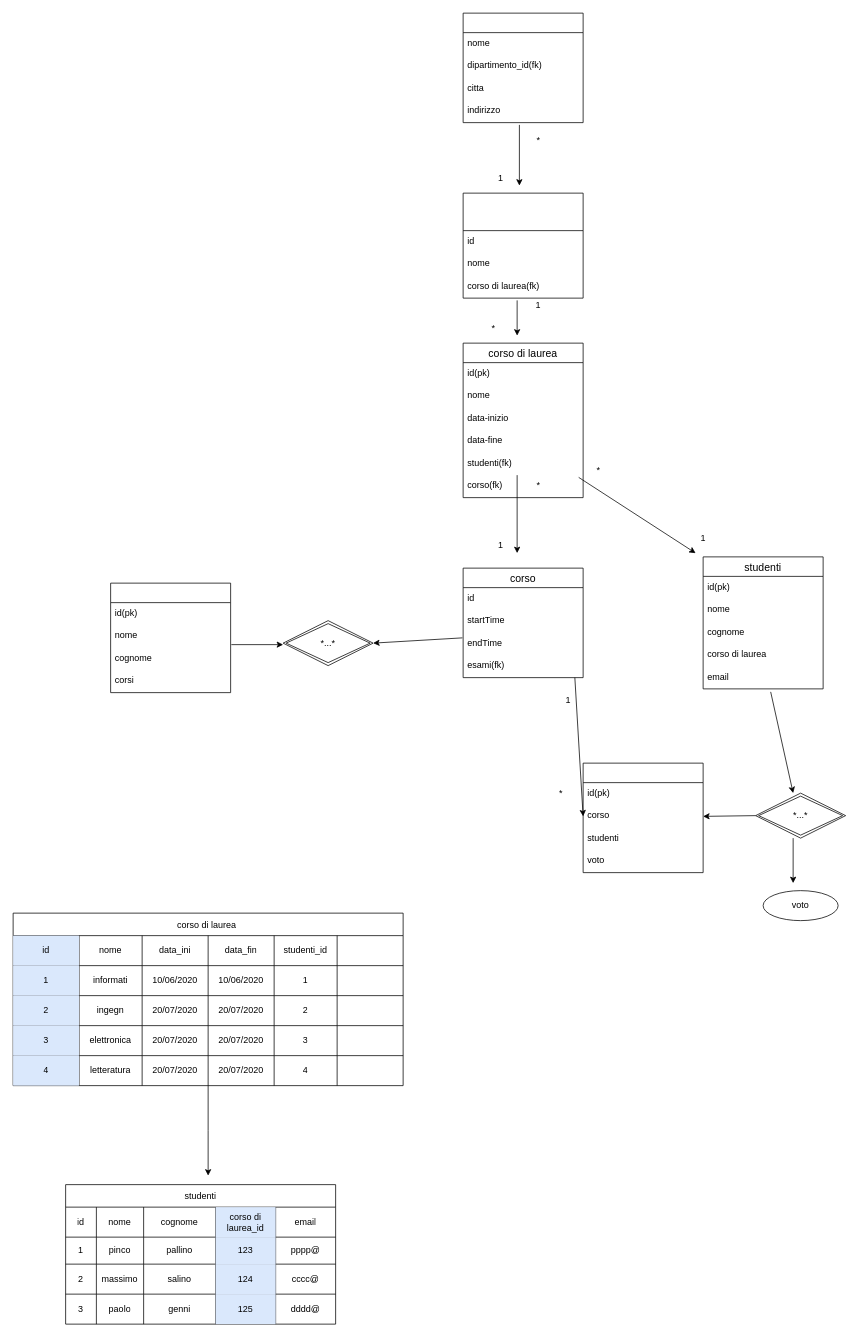
This 859x1337 diagram has some shape labels left out. Here are the shapes that lost their labels. From the top down, the box of each, then its label:
(462, 12, 583, 123): universita
(462, 192, 583, 298): dipartimento
(110, 582, 231, 693): insegnante
(582, 762, 703, 873): esami
